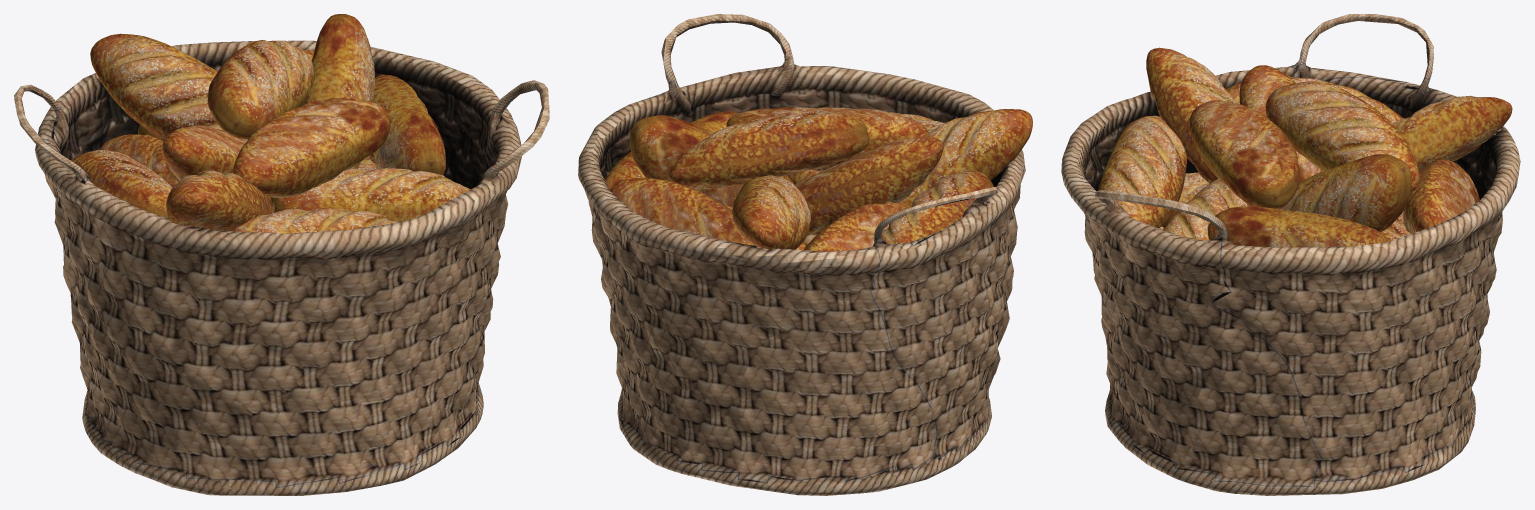
File: skbb7e9cf4.glb
3 views of the same model, side by side, from view 1: azimuth 30°, elevation 25°; view 2: azimuth 150°, elevation 25°; view 3: azimuth 270°, elevation 25° (orthographic). The views are drawn at different scales.
Visible parts, largest first — view 1: Object_3, Object_4, Object_5; view 2: Object_3, Object_4, Object_5; view 3: Object_3, Object_4, Object_5.
Boxes of the visible parts, x1,y1,x2,y2 form: Object_3: (14, 40, 549, 495); Object_4: (71, 33, 470, 233); Object_5: (100, 14, 450, 231); Object_3: (578, 14, 1025, 495); Object_4: (605, 110, 993, 249); Object_5: (629, 107, 1032, 251); Object_3: (1061, 14, 1520, 495); Object_4: (1098, 65, 1512, 247); Object_5: (1146, 47, 1412, 240).
Bounding box in the file's own units: 0.2997 × 0.2294 × 0.2909.
Materials: 2 (2 with a texture image).
